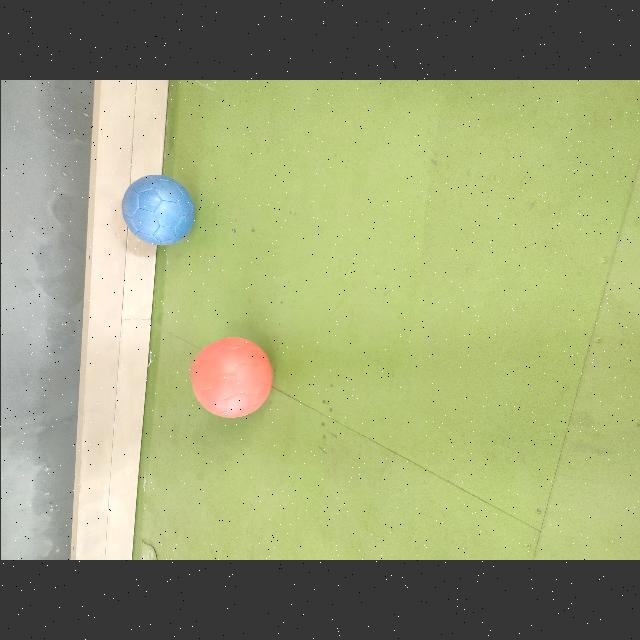B: (121, 175, 193, 245)
R: (190, 337, 272, 418)
